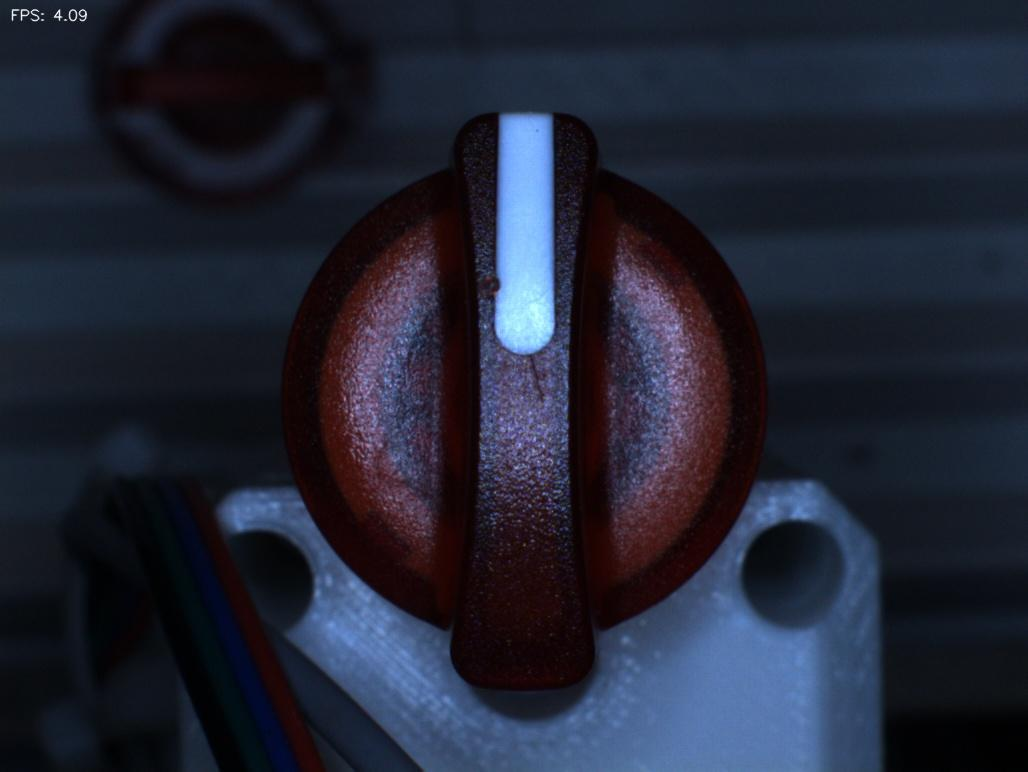Choc: (459, 245, 531, 320)
